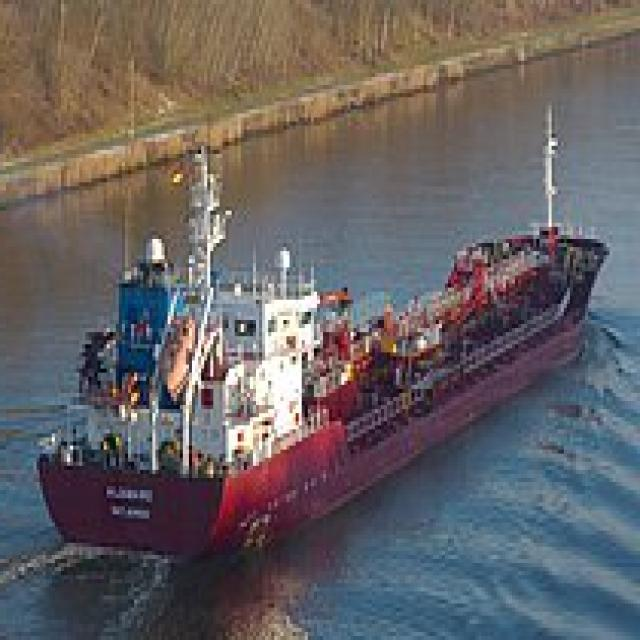Tanker: (39, 97, 616, 555)
